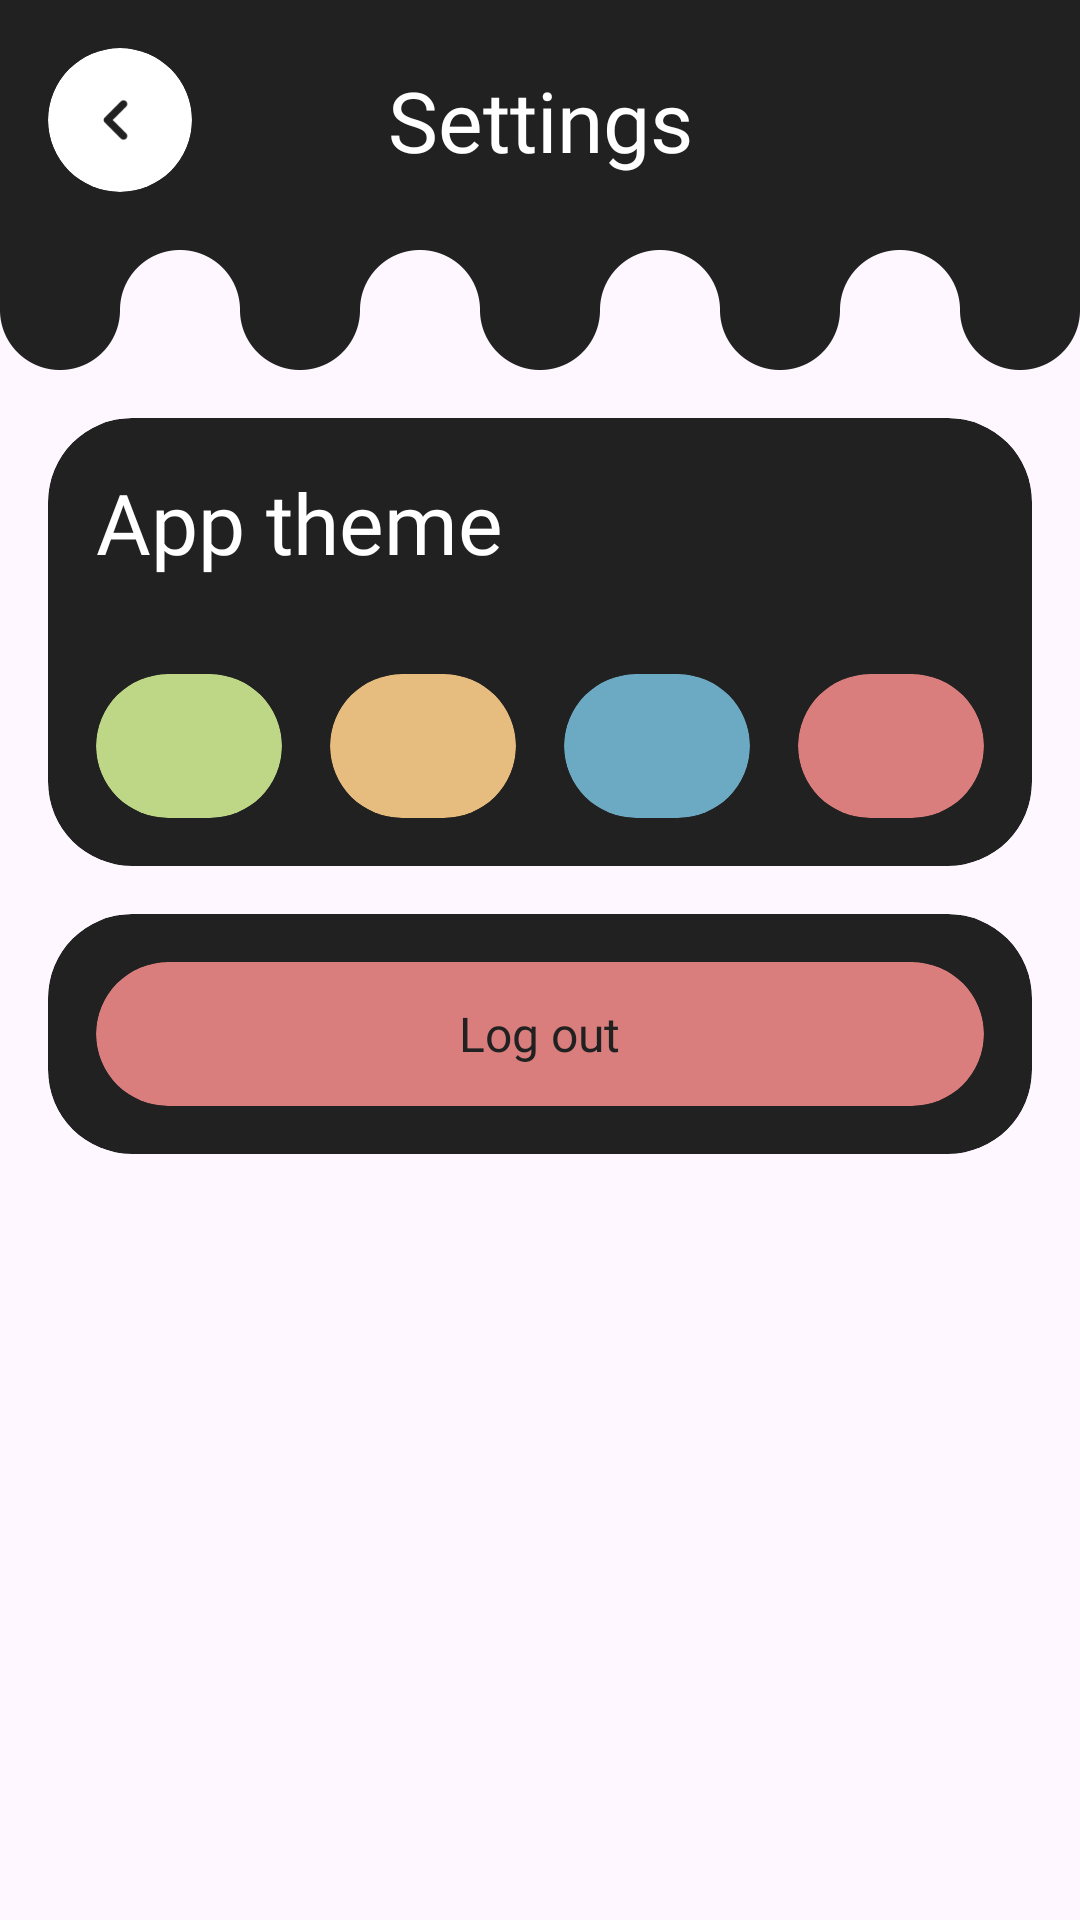

Locate icon controls on the screen. Image size 1080*1920, boxes as (x1, y1, x2, y2).
back arrow: (103, 100, 128, 140)
